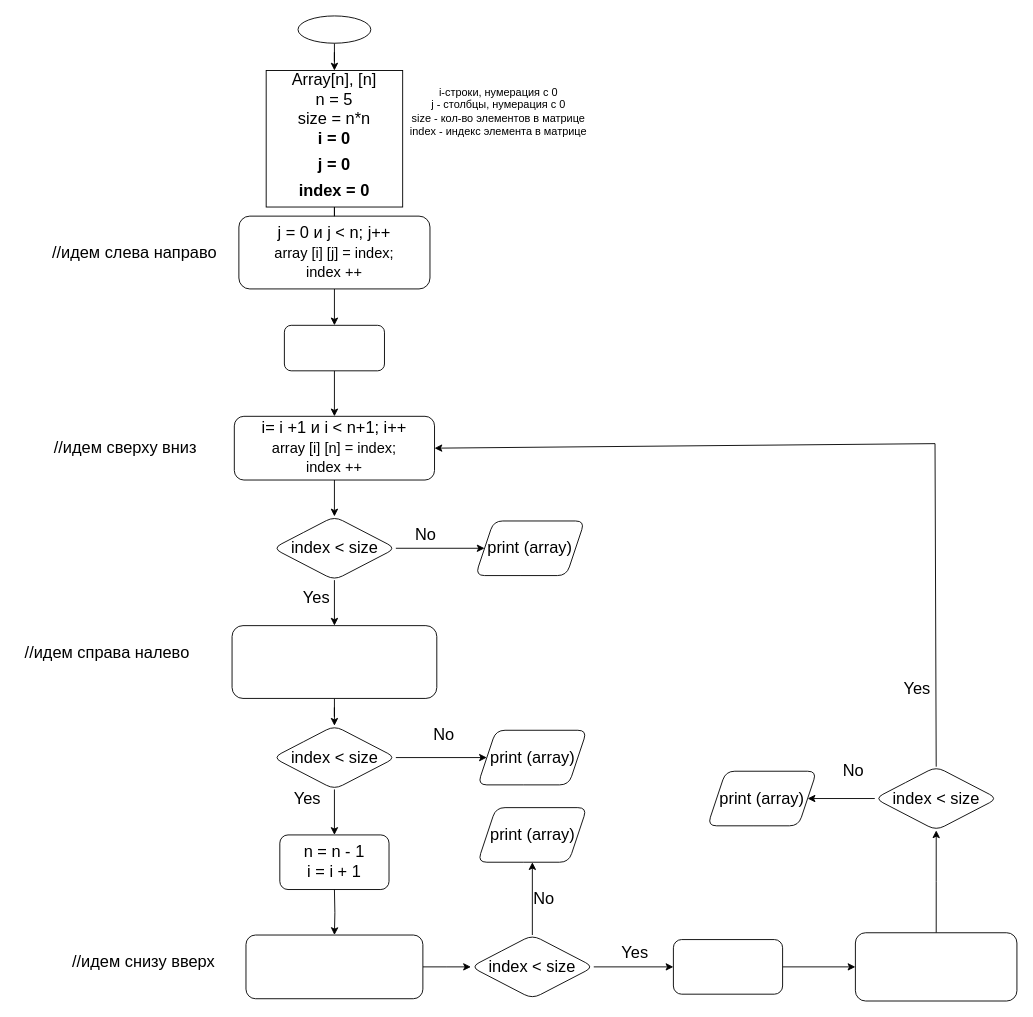
Some shapes in this 1033 by 1017 pixel diagram are drawn without their labels. The centre of each missing label's shape, as x and y in pixels:
"i = n; i >= 0 + i; i -- array [i] [j + 0] = index; index ++" goes at point (334, 966).
"j = j + 0, j < n + 1, j ++ array[i] [j] = index index ++" goes at point (935, 966).
"j = j + 1" goes at point (727, 966).
"j= n-1 и j >= j + 0; j- - array [n] [j] = index; index ++" goes at point (334, 661).
"n = n-1" goes at point (333, 347).
"Start" goes at point (334, 29).
